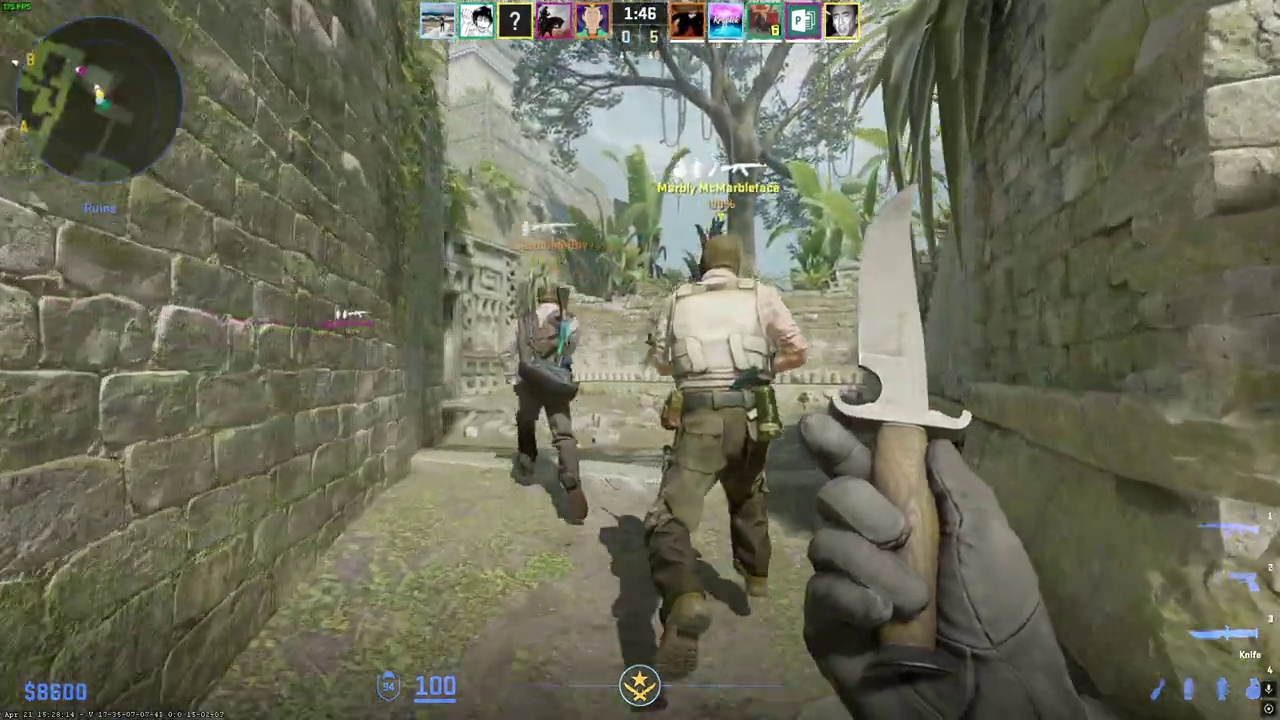Terrorist: (629, 235, 804, 681), (503, 281, 592, 521)
